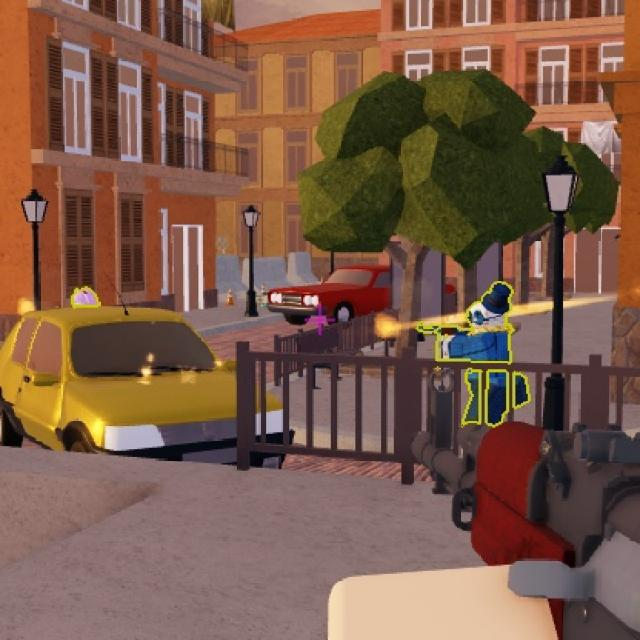player: (436, 281, 530, 428)
